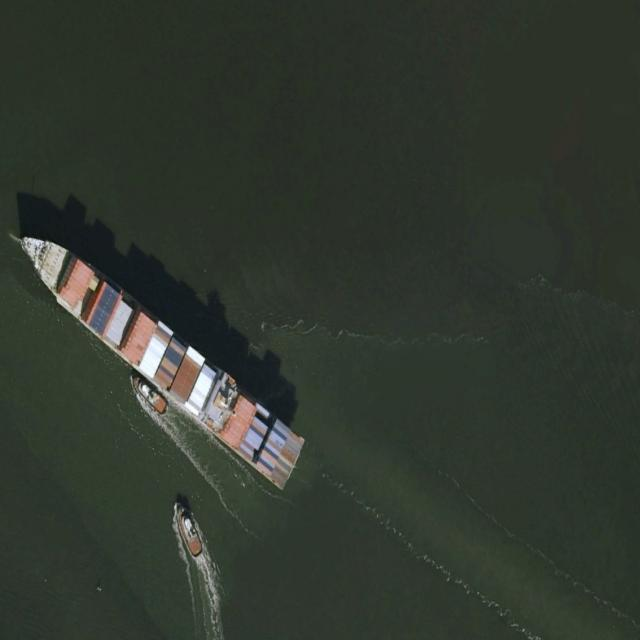Container Ship: (7, 211, 306, 493)
Hovercraft: (172, 496, 205, 559), (128, 368, 168, 416)
